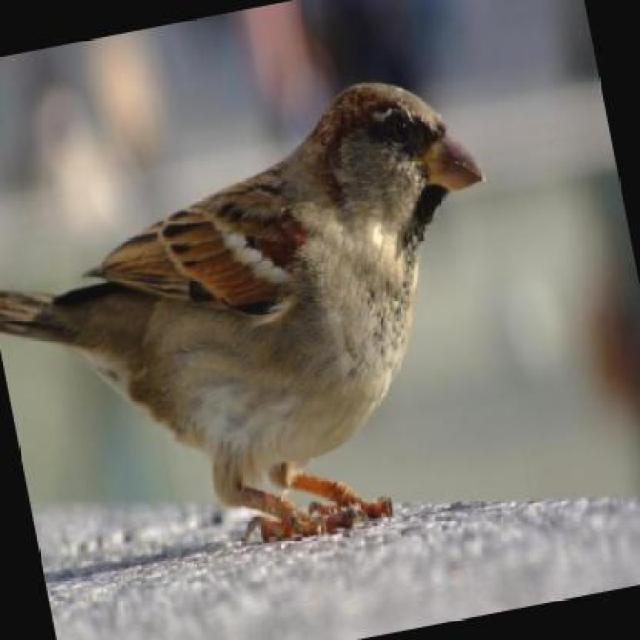sparrow: (0, 60, 545, 589)
